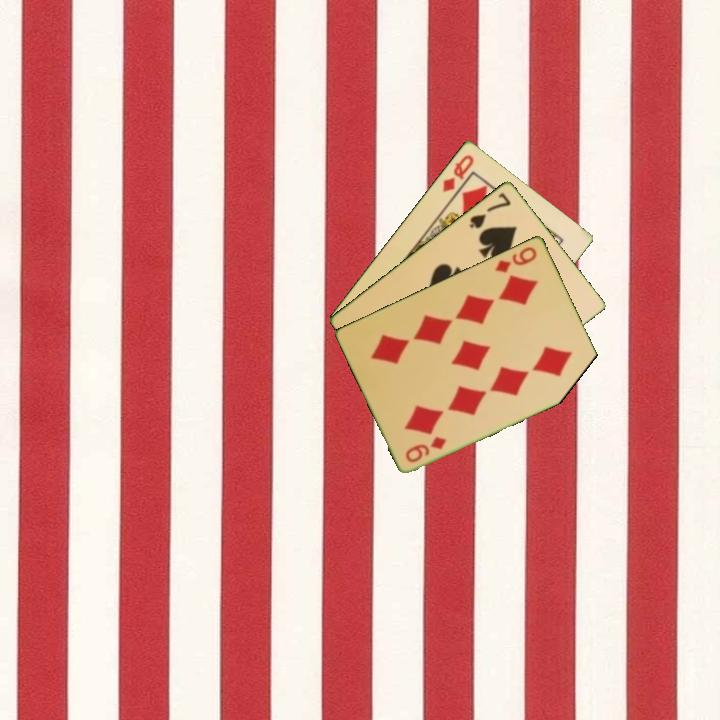7s: (466, 188, 514, 231)
9d: (402, 432, 450, 465), (492, 243, 540, 275)
Qd: (439, 151, 477, 195)
